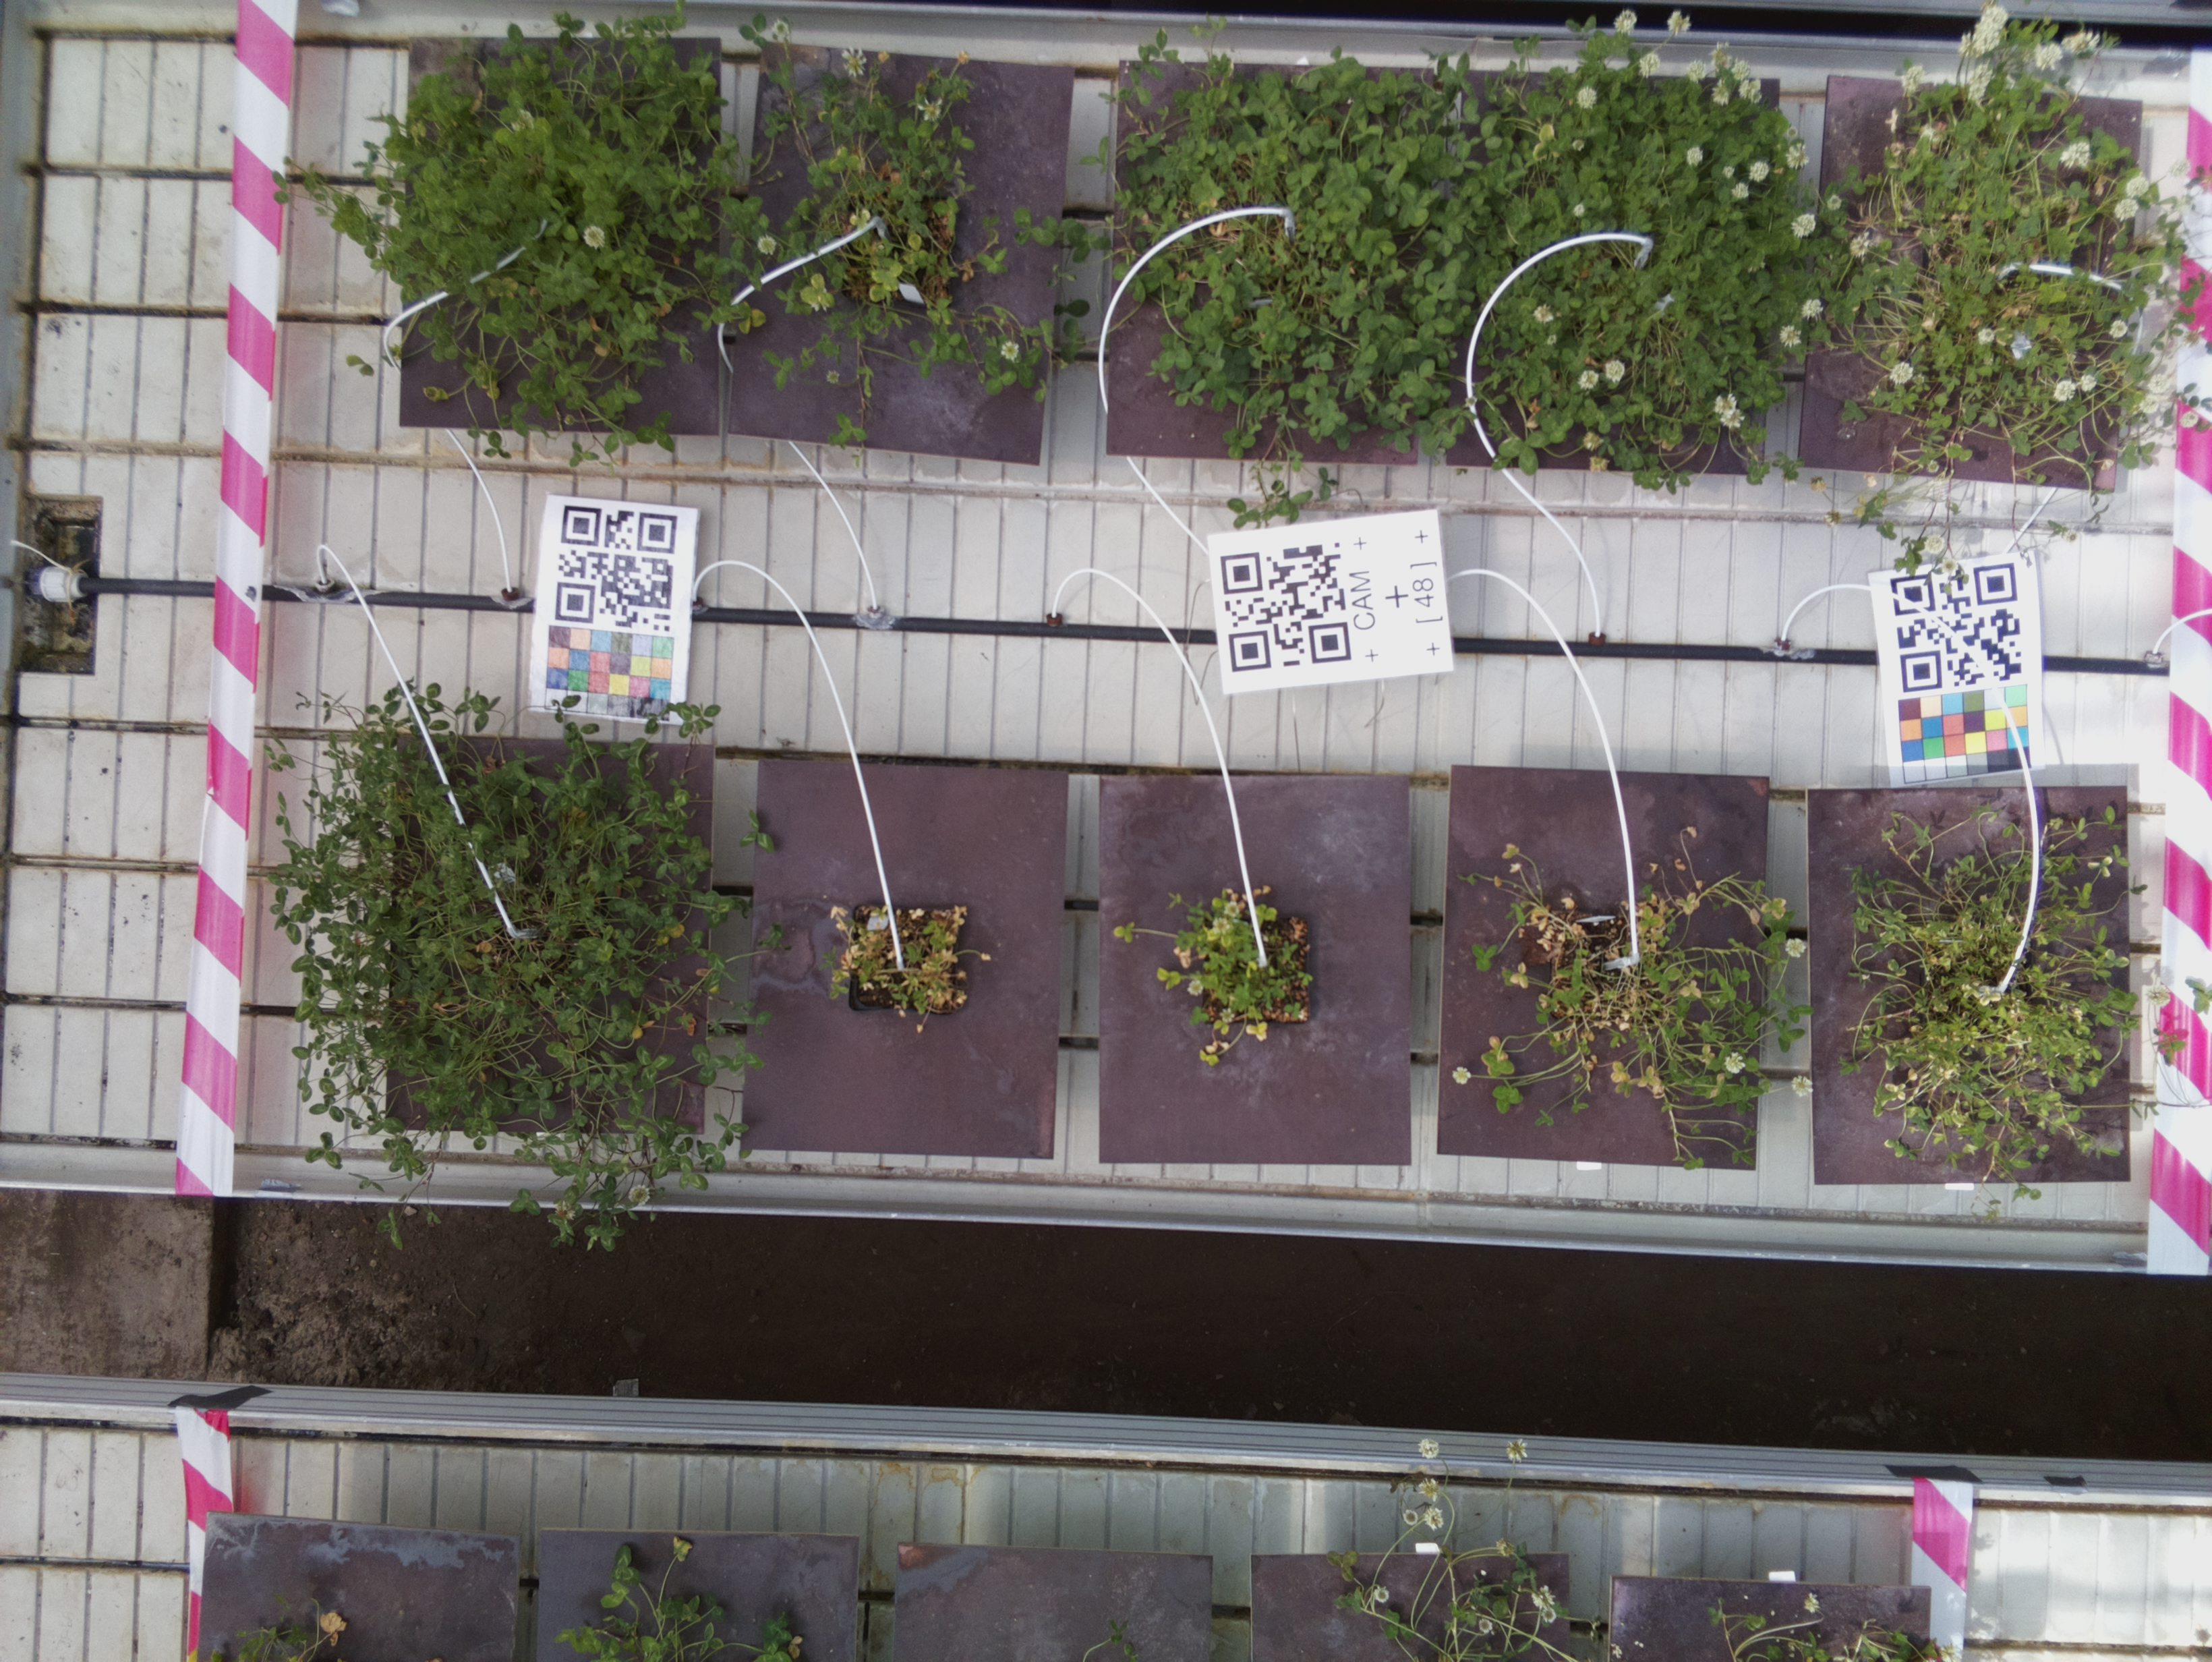POT: (726, 44, 1075, 454), (1439, 66, 1781, 484), (1800, 77, 2140, 489), (386, 728, 714, 1143), (1800, 786, 2140, 1185), (742, 751, 1068, 1163), (1093, 772, 1421, 1173), (1440, 763, 1760, 1166), (1110, 59, 1426, 463), (400, 37, 723, 431)
QRCODE: (1206, 512, 1451, 700)
QRCOLOR: (1868, 555, 2044, 786), (536, 496, 698, 728)
